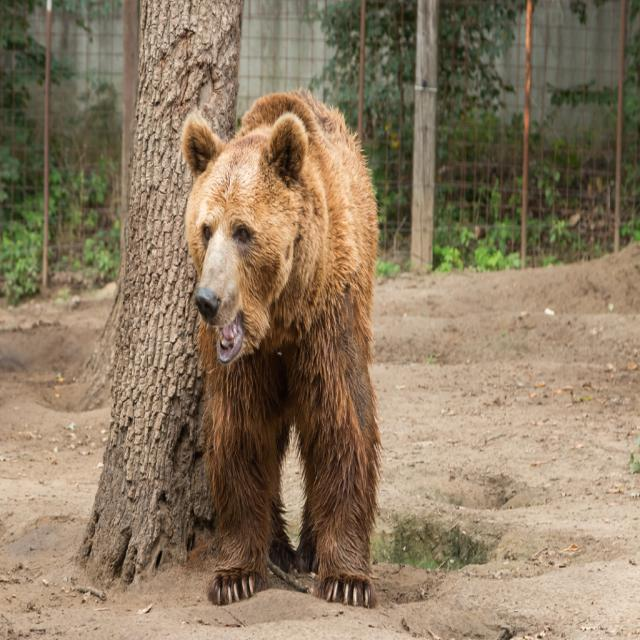Cheetahs: (178, 84, 387, 606)
